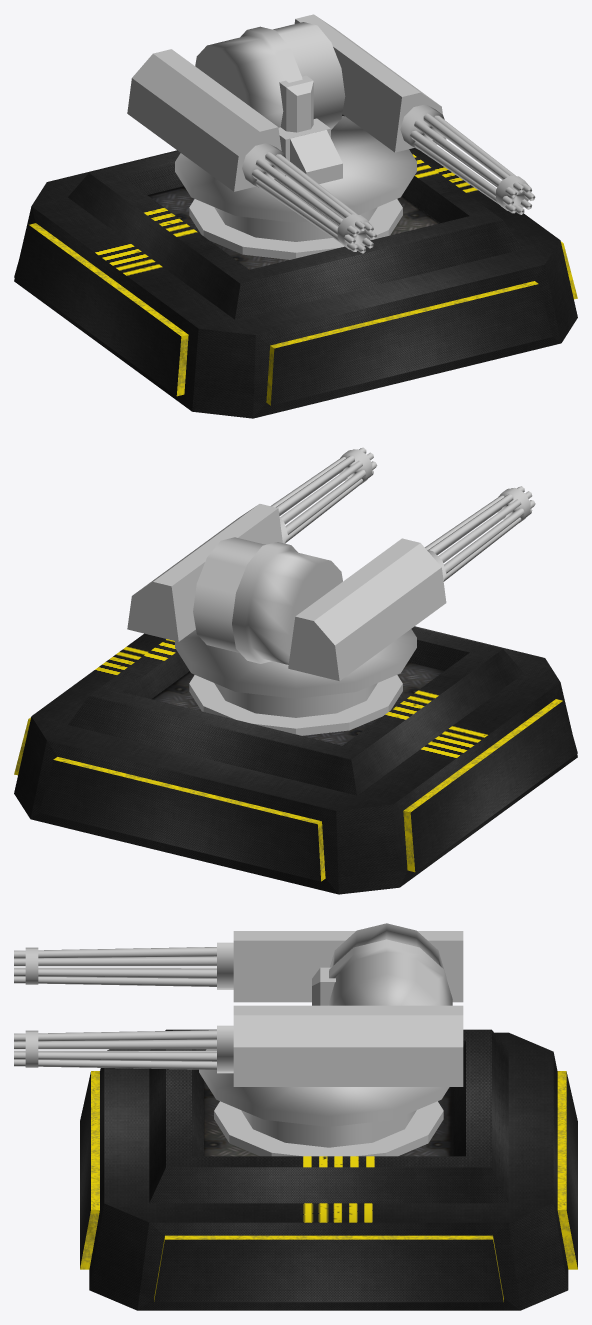
Rendered from MiniGunTowerLv2.fbx.
3 views of the same model, one above another, from view 1: azimuth 30°, elevation 25°; view 2: azimuth 150°, elevation 25°; view 3: azimuth 270°, elevation 25° (orthographic). The views are drawn at different scales.
Visible parts, largest first — view 1: Base, Head, Gun_Tower, Gun_2, Gun_1; view 2: Base, Head, Gun_Tower, Gun_2, Gun_1; view 3: Base, Gun_Tower, Head, Gun_1, Gun_2.
Part boxes in pixels (bbox=[...]): Base: bbox=[14, 114, 577, 418]; Head: bbox=[175, 22, 416, 259]; Gun_Tower: bbox=[127, 14, 446, 191]; Gun_2: bbox=[242, 143, 376, 253]; Gun_1: bbox=[400, 104, 535, 214]; Base: bbox=[14, 626, 577, 894]; Head: bbox=[175, 537, 416, 735]; Gun_Tower: bbox=[127, 504, 446, 680]; Gun_2: bbox=[425, 486, 535, 581]; Gun_1: bbox=[270, 447, 377, 543]; Base: bbox=[80, 1029, 577, 1310]; Gun_Tower: bbox=[233, 931, 463, 1086]; Head: bbox=[199, 923, 452, 1156]; Gun_1: bbox=[14, 1025, 233, 1073]; Gun_2: bbox=[14, 942, 233, 989].
Bounding box in the file's own units: 24.94 × 14.72 × 28.24.
